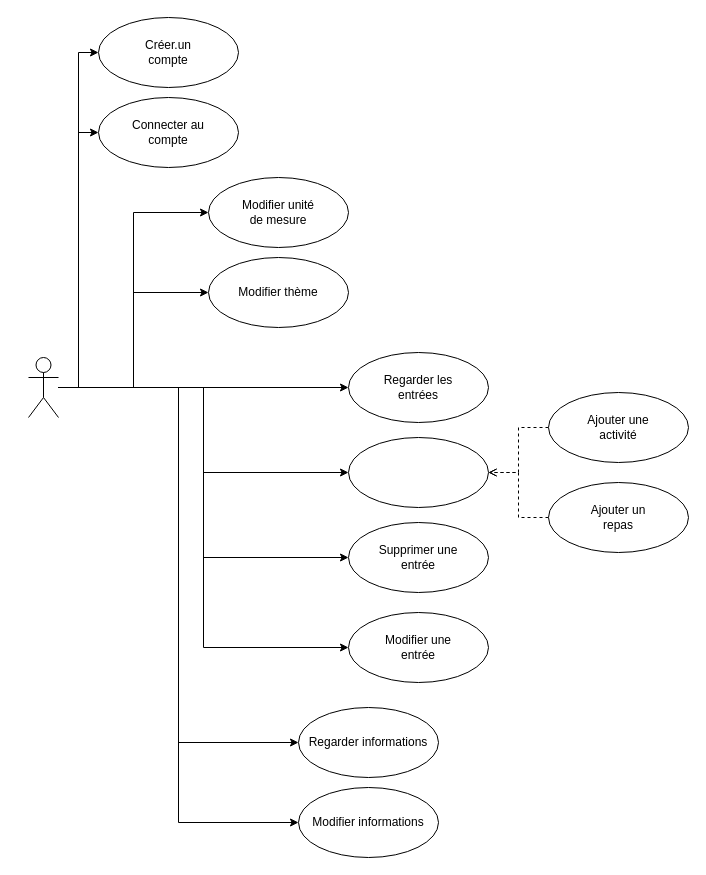
Image size: 706x875. Some labels were removed from this diagram. Each missing label, with the box of its shape:
Ajouter une entrée: (348, 436, 488, 508)
Utilisateur: (28, 356, 58, 418)
